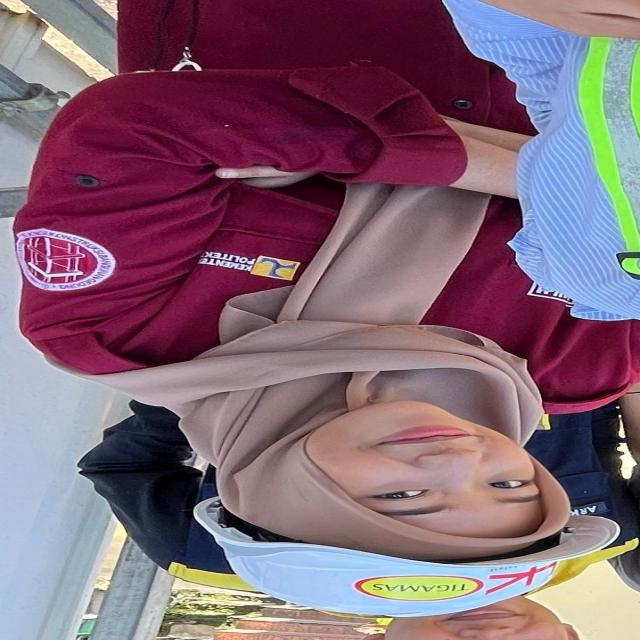safetyhelmet: (191, 428, 615, 620)
